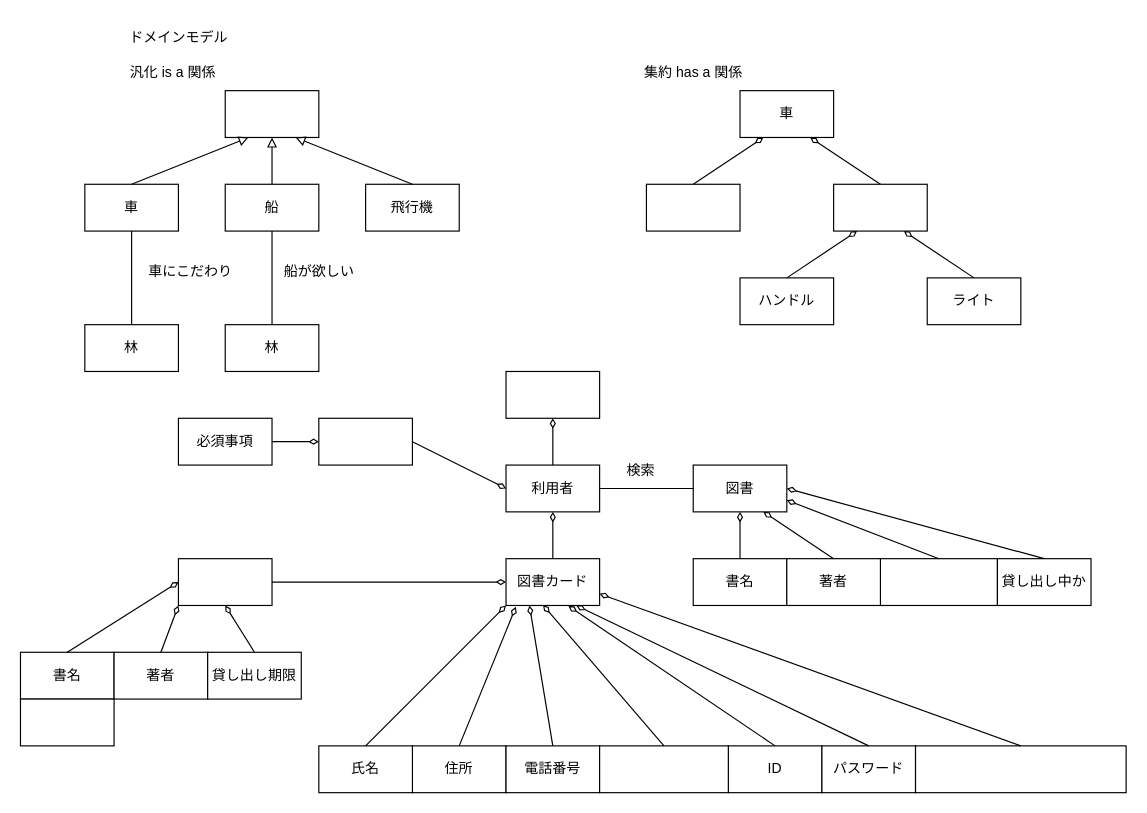
Some shapes in this 1147 by 813 pixel diagram are drawn without their labels. Here are the shapes that lost their labels. From the top down, the centre of each, then its label:
At (271,113): "乗り物".
At (692,207): "エンジン".
At (879,207): "ボディ".
At (552,394): "図書館".
At (365,441): "貸し出し予約".
At (224,581): "借りている本".
At (938,581): "どこの棚にあるか".
At (66,722): "*本のID".
At (663,769): "電子メールアドレス".
At (1020,769): "あと何冊借りることが出来るか".
